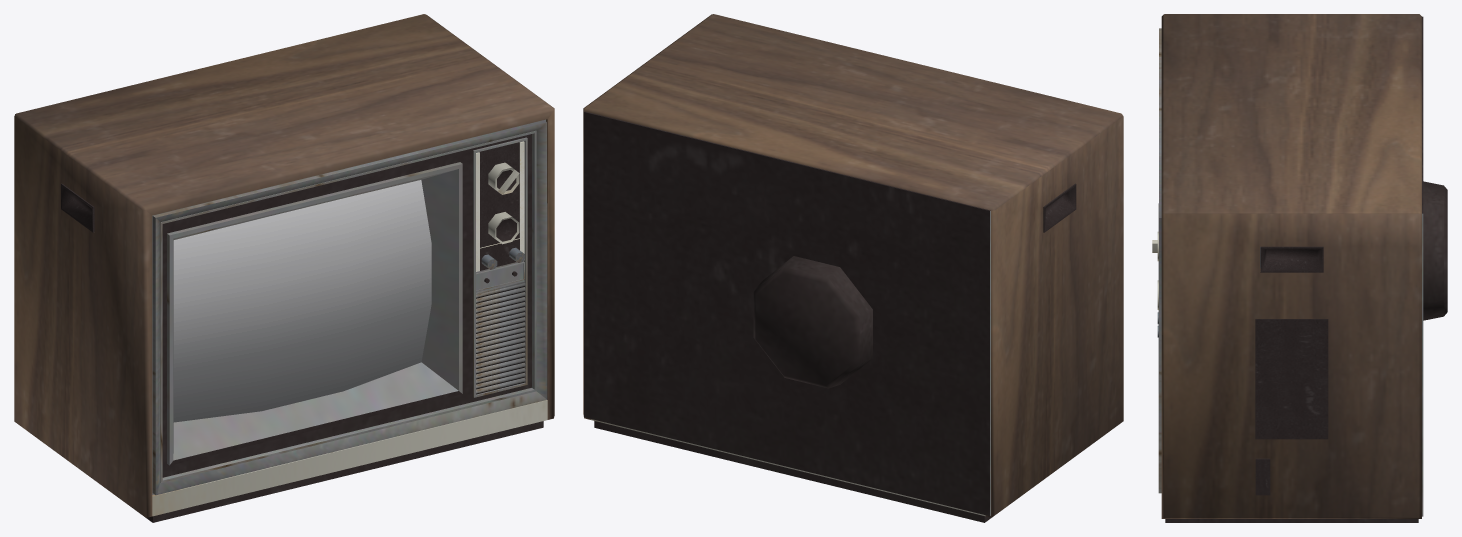
Rendered from oldTV1d.fbx.
3 views of the same model, side by side, from view 1: azimuth 30°, elevation 25°; view 2: azimuth 150°, elevation 25°; view 3: azimuth 270°, elevation 25° (orthographic).
Visible parts, largest first — view 1: oldTV1d; view 2: oldTV1d; view 3: oldTV1d.
Boxes of the visible parts, x1,y1,x2,y2 form: oldTV1d: (14,14,554,522); oldTV1d: (583,14,1123,522); oldTV1d: (1152,14,1447,522).
Size of the model in its own units: 74.81 by 54.83 by 46.51.
